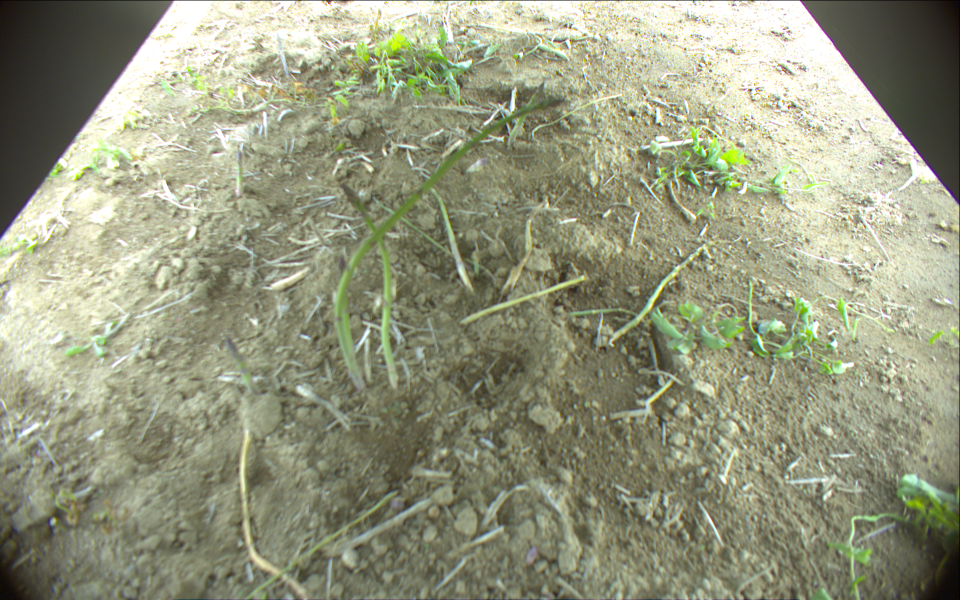aspa: (336, 97, 563, 388), (338, 180, 401, 390), (608, 239, 722, 345), (462, 278, 583, 329), (429, 189, 471, 292), (225, 337, 259, 397), (235, 151, 244, 197)
